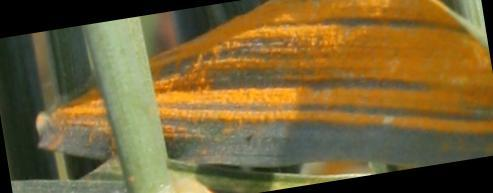Wheat: (156, 42, 490, 145), (192, 2, 469, 50)
